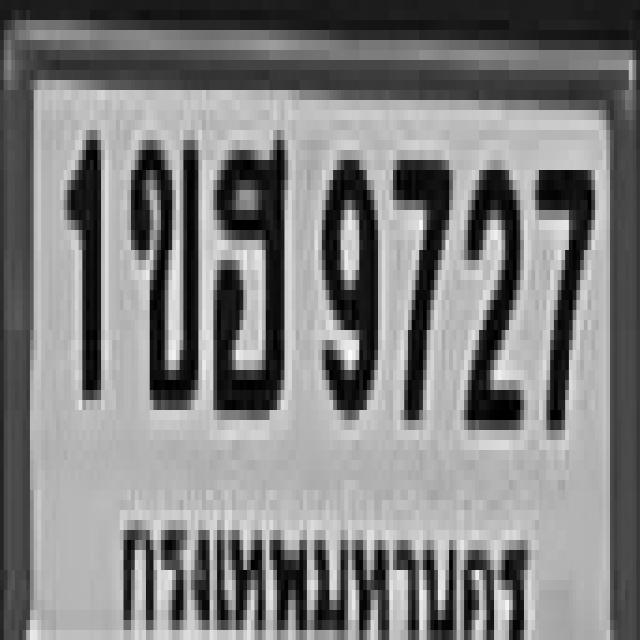1: (64, 120, 97, 390)
11KhorKhai: (127, 130, 195, 400)
2: (461, 155, 516, 425)
53HorNokHook: (210, 130, 284, 410)
7: (532, 160, 592, 430), (389, 150, 449, 420)
9: (318, 150, 374, 410)
Bangkok: (115, 498, 535, 640)
